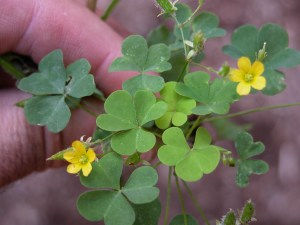oxalis: (33, 15, 276, 218)
